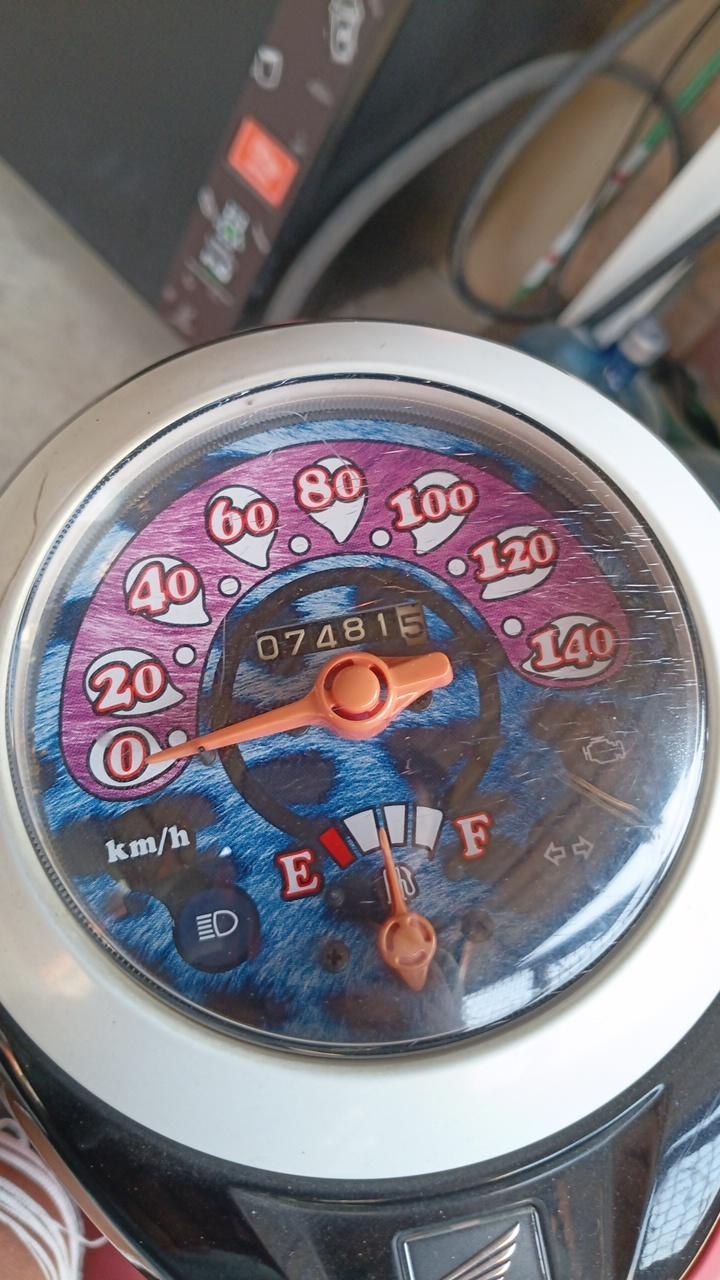0: (256, 635, 279, 661)
1: (377, 612, 389, 638)
4: (316, 623, 338, 650)
5: (400, 611, 425, 639)
7: (284, 628, 306, 657)
8: (342, 617, 366, 642)
odometer: (253, 597, 432, 670)
